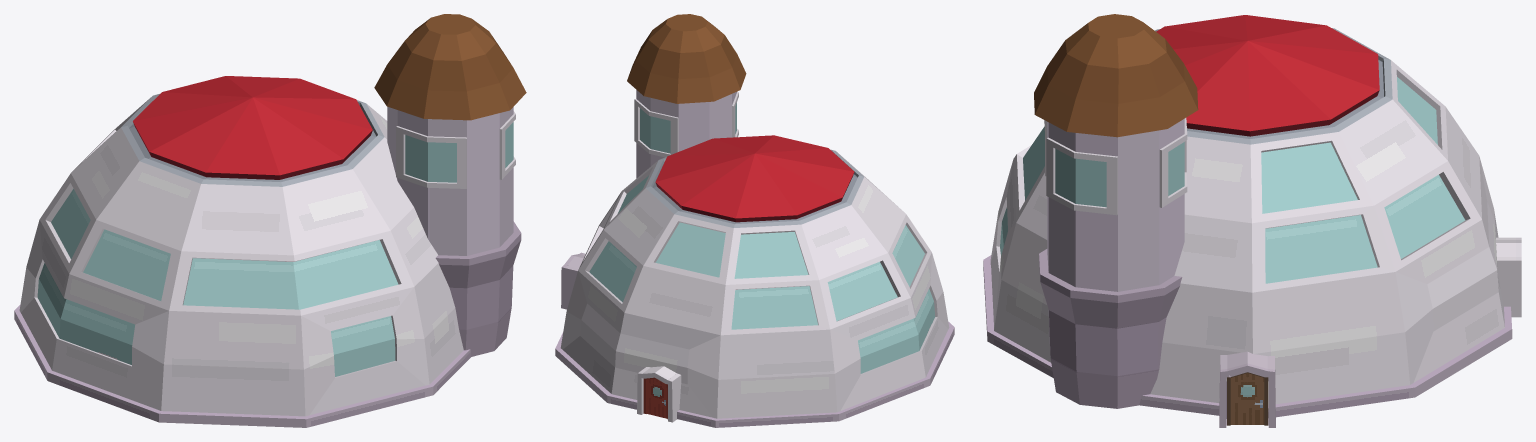
File: f.nps_spherehouse_2.gltf
3 renders of one model, left to right at view 1: azimuth 30°, elevation 25°; view 2: azimuth 150°, elevation 25°; view 3: azimuth 270°, elevation 25°, orthographic. The views are drawn at different scales.
Parts seen in each view (by area): view 1: s2_1; view 2: s2_1; view 3: s2_1.
Part boxes in pixels (left/top/right/bottom): s2_1: left=14, top=14, right=526, bottom=427; s2_1: left=555, top=14, right=954, bottom=427; s2_1: left=983, top=14, right=1521, bottom=427.
Size of the model in its own units: 6.39 by 4.44 by 6.08.
1 material, 1 textured.
